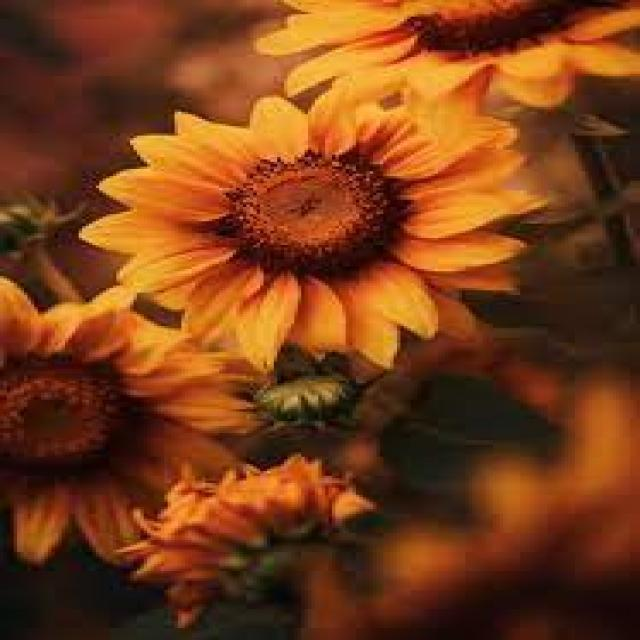sunflower: (75, 69, 548, 374), (302, 368, 640, 639), (0, 276, 264, 566), (249, 0, 636, 114), (126, 454, 370, 624), (346, 336, 564, 484)
